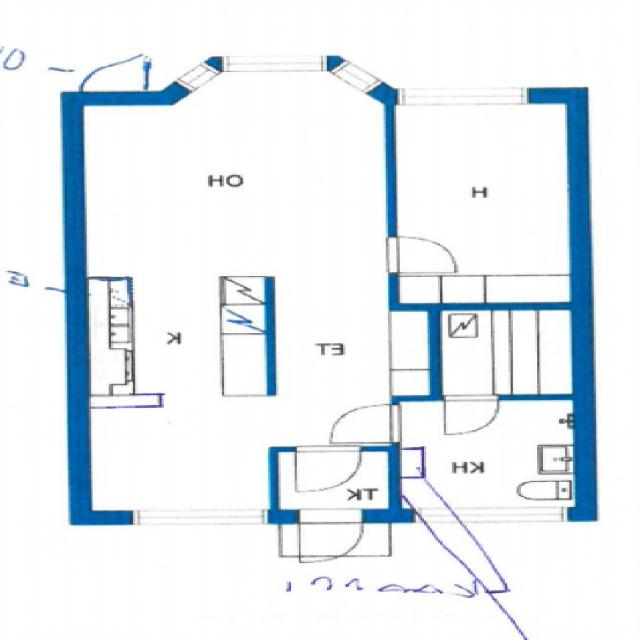door: (294, 508, 358, 562), (84, 54, 146, 106), (293, 444, 357, 490), (324, 404, 395, 441), (384, 237, 451, 272), (440, 394, 492, 433)
